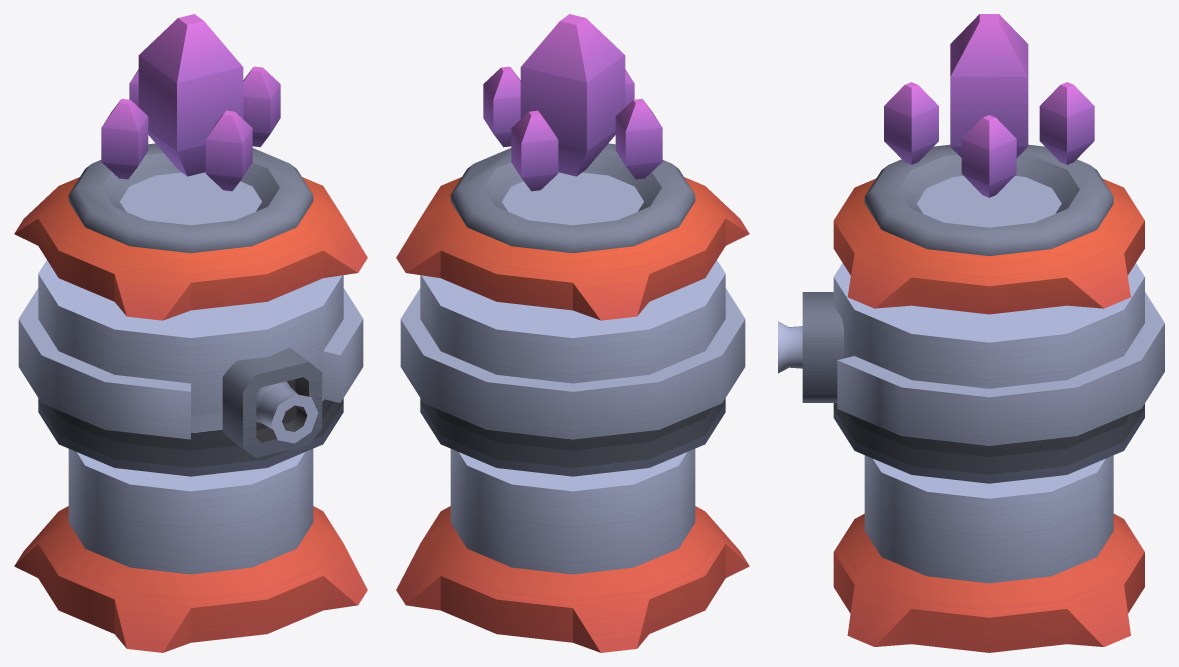
File: tower_crystal.glb
3 renders of one model, left to right at view 1: azimuth 30°, elevation 25°; view 2: azimuth 150°, elevation 25°; view 3: azimuth 270°, elevation 25°, orthographic.
Visible parts, largest first — view 1: tower-round-bottom-b_b; view 2: tower-round-bottom-b_b; view 3: tower-round-bottom-b_b.
Boxes of the visible parts, x1,y1,x2,y2 form: tower-round-bottom-b_b: (14,14,367,652); tower-round-bottom-b_b: (396,14,749,652); tower-round-bottom-b_b: (778,14,1164,652).
Size of the model in its own units: 1.23 by 2.2 by 1.36.
Materials: 3 (3 with a texture image).
